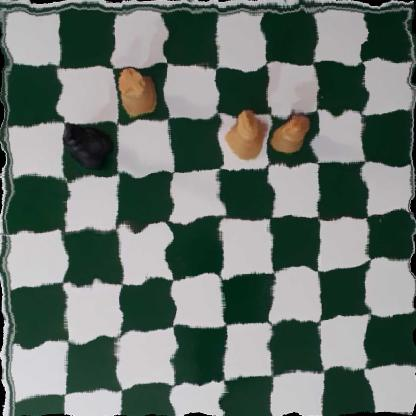black-king: (59, 117, 116, 171)
white-bishop: (273, 114, 312, 155)
white-king: (224, 103, 266, 158)
white-rook: (116, 64, 161, 119)
